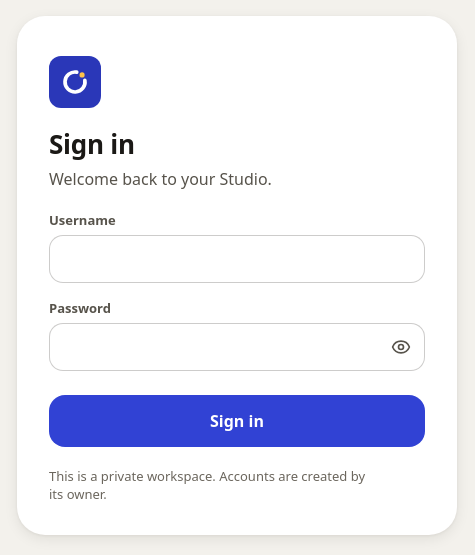
it: the sign-in form › can show and hide the password
Type "visible?" into the password field labelled "Password" at x=214, y=347, box [49, 323, 379, 371]
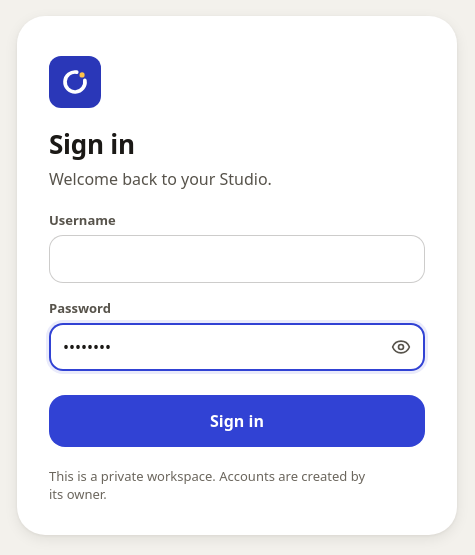
Click the button named "Show password" at x=401, y=347, box [379, 325, 423, 369]
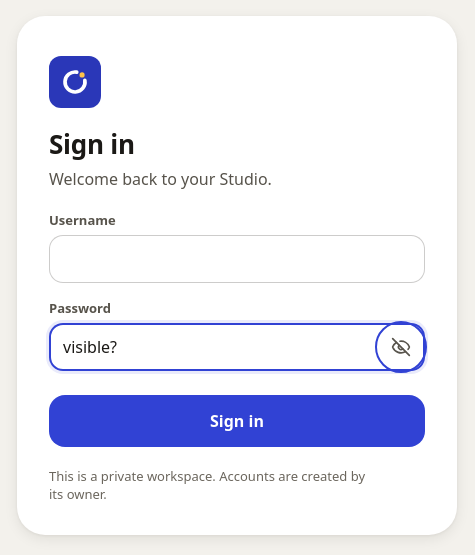
Result: the field labelled "Password" shows its text at [49, 323, 379, 371]
Click the button named "Hide password" at x=401, y=347, box [379, 325, 423, 369]
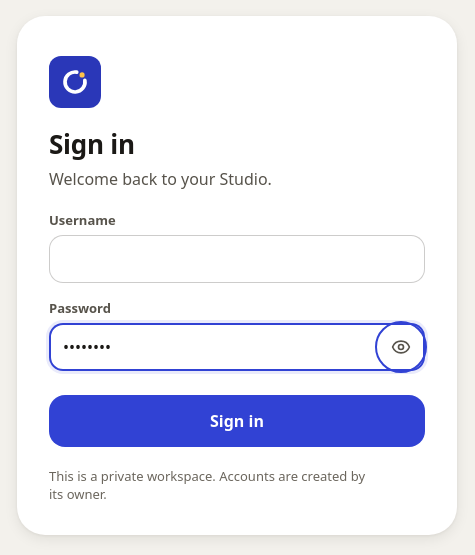
Result: the password field labelled "Password" hides its text at [49, 323, 379, 371]
